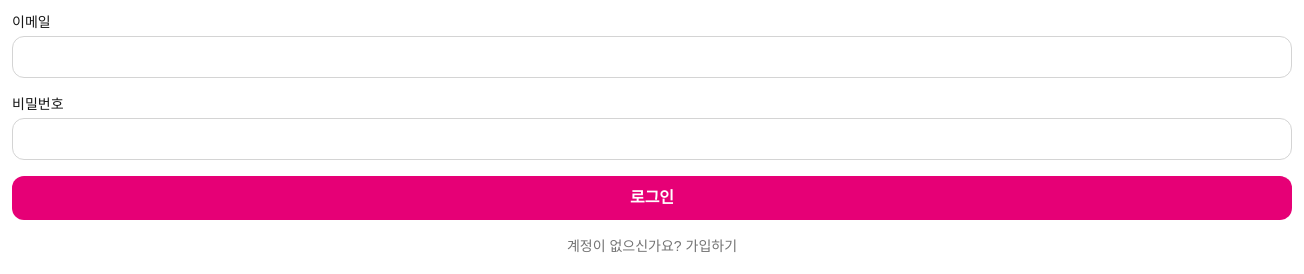
it: LoginForm › toggles to sign up mode
This screenshot has width=1304, height=274.
Step 1. Click the button "계정이 없으신가요? 가입하기" → (652, 246), box [12,236,1292,256]
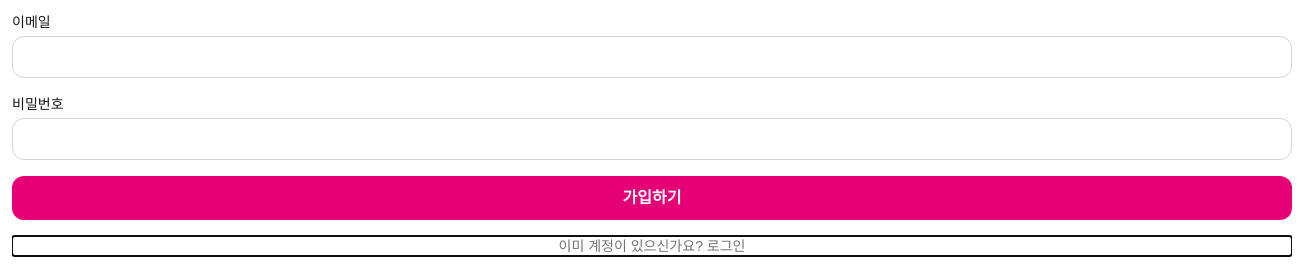
Expected: the button "가입하기" is shown, [12,176,1292,220]
